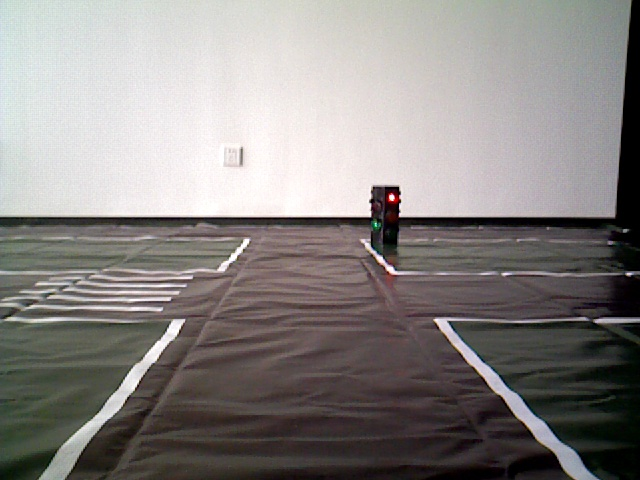red: (371, 187, 399, 246)
